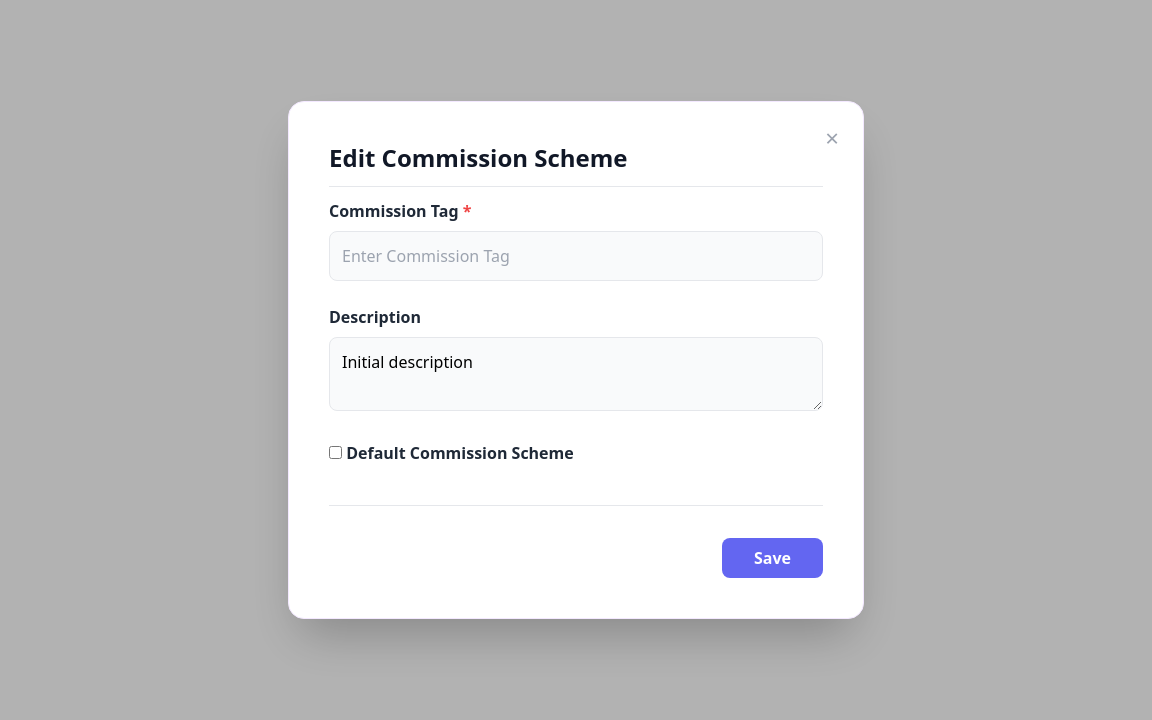
CommissionSchemeEditModal › shows error if no tag is present
Click the button "Save": (772, 558) [722,538,823,578]
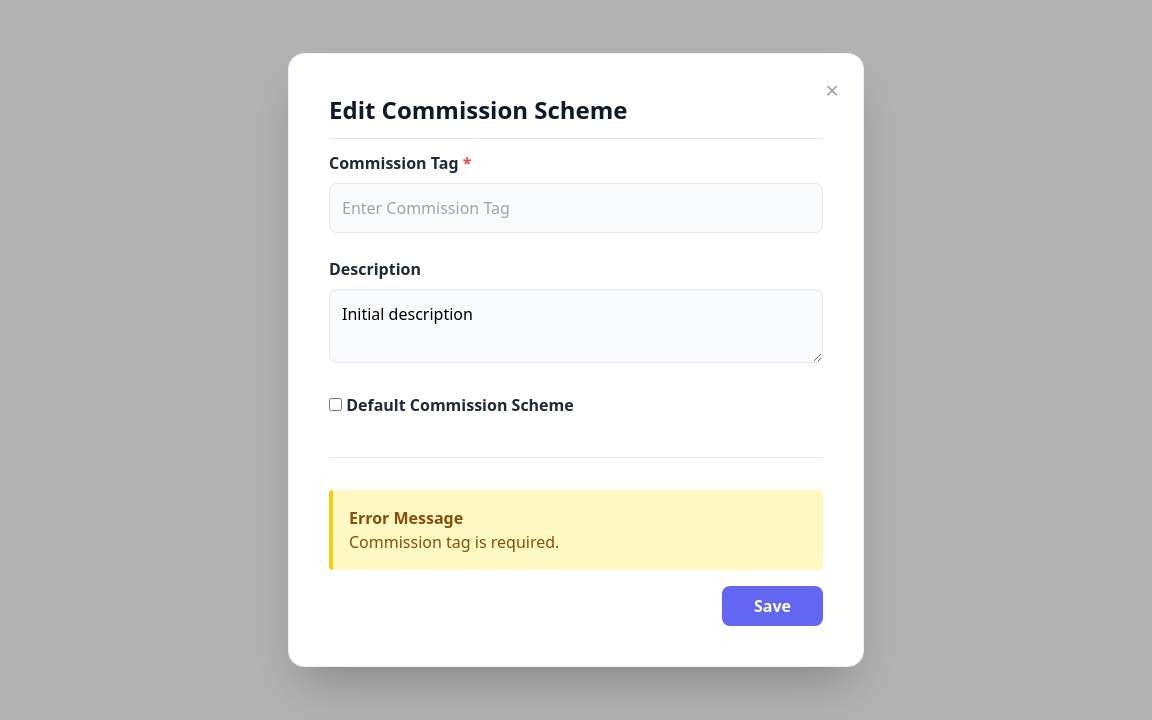
Check: the text "Commission tag is required." is shown, box [349,531,559,553]
